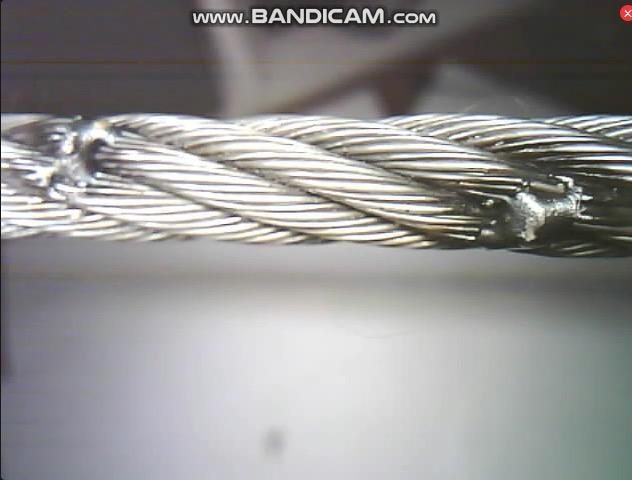thunderbolt: (475, 170, 595, 258), (32, 111, 123, 197)
